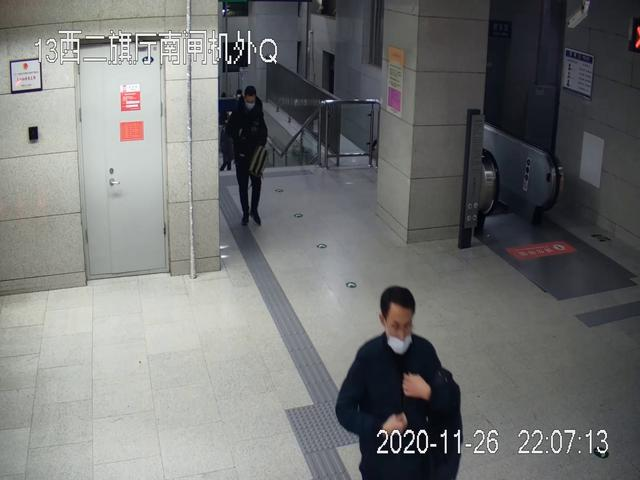person: (336, 286, 463, 480), (229, 87, 268, 227)
